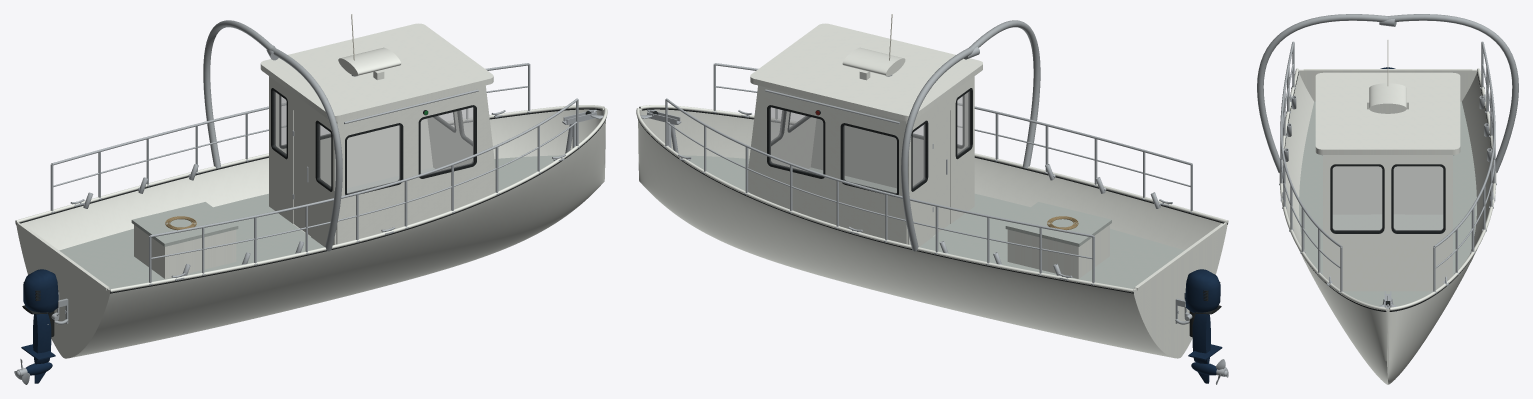
The model's file is fishing-boat.glb.
3 views of the same model, side by side, from view 1: azimuth 30°, elevation 25°; view 2: azimuth 150°, elevation 25°; view 3: azimuth 270°, elevation 25° (orthographic). The views are drawn at different scales.
Parts seen in each view (by area): view 1: Finite lofted hull and transom, Working pilothouse overhanging finite roof, Working pilothouse side -1 cut wall, Seated continuous cockpit deck, Working pilothouse rear cut wall, Working pilothouse side 1 cut wall, Closed working deck fish locker, Working pilothouse side -1 opening 1 finite glazing, Working pilothouse side -1 opening 2 finite glazing, Fish locker seated lid, Finite rolled gunwale -1, Working pilothouse recessed closed boarding door (+20 smaller); view 2: Finite lofted hull and transom, Working pilothouse overhanging finite roof, Working pilothouse side 1 cut wall, Seated continuous cockpit deck, Working pilothouse rear cut wall, Working pilothouse side -1 cut wall, Closed working deck fish locker, Working pilothouse side 1 opening 1 finite glazing, Working pilothouse side 1 opening 2 finite glazing, Fish locker seated lid, Finite rolled gunwale 1, Working pilothouse recessed closed boarding door (+20 smaller); view 3: Finite lofted hull and transom, Working pilothouse overhanging finite roof, Working pilothouse raked front cut wall, Seated continuous cockpit deck, Working pilothouse rear cut wall, Working pilothouse raked front opening 1 finite glazing, Working pilothouse raked front opening 2 finite glazing, Working gantry upright -1, Working gantry upright 1, Working pilothouse recessed closed boarding door, Closed navigation radar pod, Finite rolled gunwale 1 (+10 smaller).
Part boxes in pixels (x1,y1,x2,y2): Finite lofted hull and transom: (16,108,605,358); Working pilothouse overhanging finite roof: (260,23,493,121); Working pilothouse side -1 cut wall: (336,85,495,244); Seated continuous cockpit deck: (59,155,561,288); Working pilothouse rear cut wall: (269,76,336,246); Working pilothouse side 1 cut wall: (275,92,432,188); Closed working deck fish locker: (134,225,236,278); Working pilothouse side -1 opening 1 finite glazing: (347,125,400,193); Working pilothouse side -1 opening 2 finite glazing: (421,107,473,174); Fish locker seated lid: (131,202,238,246); Finite rolled gunwale -1: (109,108,607,292); Working pilothouse recessed closed boarding door: (293,111,310,236); Finite lofted hull and transom: (638,108,1227,358); Working pilothouse overhanging finite roof: (750,23,982,121); Working pilothouse side 1 cut wall: (748,85,907,244); Seated continuous cockpit deck: (682,155,1184,288); Working pilothouse rear cut wall: (907,76,974,246); Working pilothouse side -1 cut wall: (811,92,968,188); Closed working deck fish locker: (1007,225,1109,278); Working pilothouse side 1 opening 1 finite glazing: (843,125,896,193); Working pilothouse side 1 opening 2 finite glazing: (770,107,822,174); Fish locker seated lid: (1005,202,1111,246); Finite rolled gunwale 1: (636,108,1134,292); Working pilothouse recessed closed boarding door: (933,111,949,235); Finite lofted hull and transom: (1285,69,1490,384); Working pilothouse overhanging finite roof: (1315,72,1460,154); Working pilothouse raked front cut wall: (1324,155,1451,291); Seated continuous cockpit deck: (1299,101,1476,306); Working pilothouse rear cut wall: (1332,166,1443,214); Working pilothouse raked front opening 1 finite glazing: (1394,166,1442,230); Working pilothouse raked front opening 2 finite glazing: (1333,166,1381,230); Working gantry upright -1: (1257,14,1387,172); Working gantry upright 1: (1388,14,1518,172); Working pilothouse recessed closed boarding door: (1371,166,1404,214); Closed navigation radar pod: (1369,83,1406,113); Finite rolled gunwale 1: (1389,68,1496,310).
Size of the model in its own units: 8.71 by 4.14 by 3.48.
Materials: 11 (11 with a texture image).
